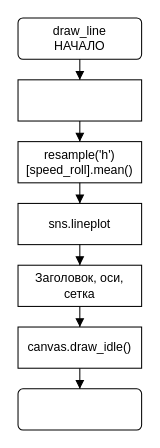
This 160x448 diagram has some shape labels left out. The shapes that lost their labels are listed below. From the top down, each one's centre as x and y in pixels, then its label:
At point 79,100: "fig.clf(); ax".
At point 79,409: "КОНЕЦ draw_line".
